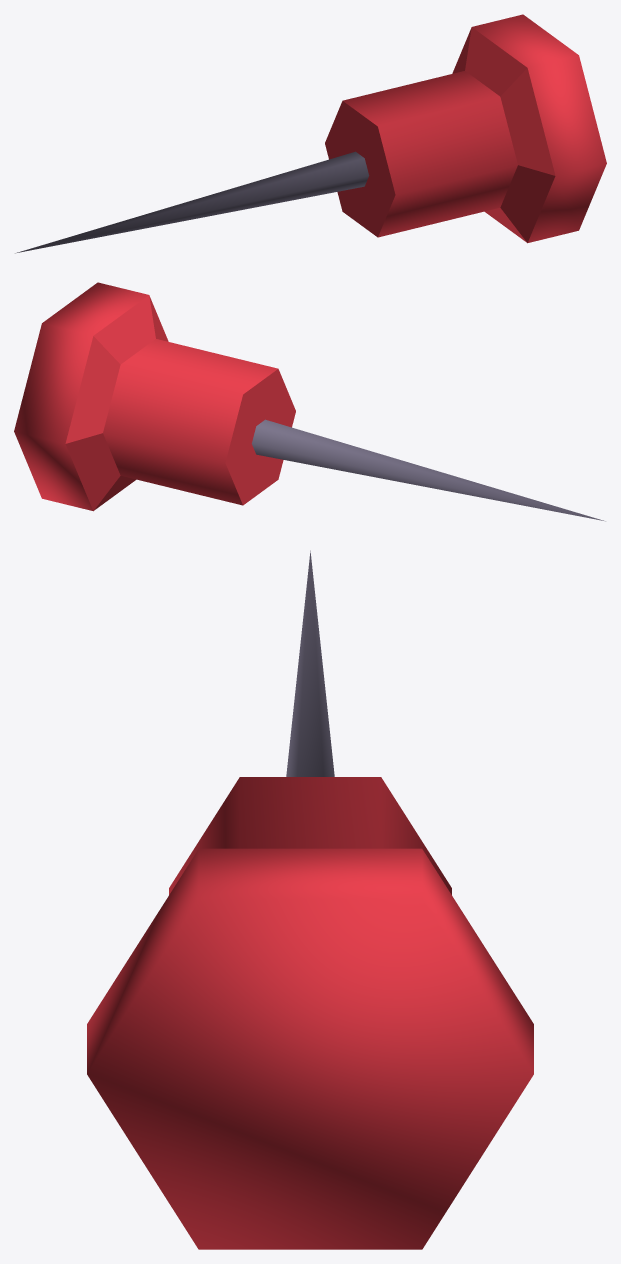
File: pin.fbx
3 renders of one model, top to bottom at view 1: azimuth 30°, elevation 25°; view 2: azimuth 150°, elevation 25°; view 3: azimuth 270°, elevation 25°, orthographic. The views are drawn at different scales.
Parts seen in each view (by area): view 1: Cylinder; view 2: Cylinder; view 3: Cylinder.
Part boxes in pixels (x1,y1,x2,y2): Cylinder: (15,14,606,253); Cylinder: (14,282,605,521); Cylinder: (87,550,533,1249).
Bounding box in the file's own units: 194 × 60.43 × 69.78.
